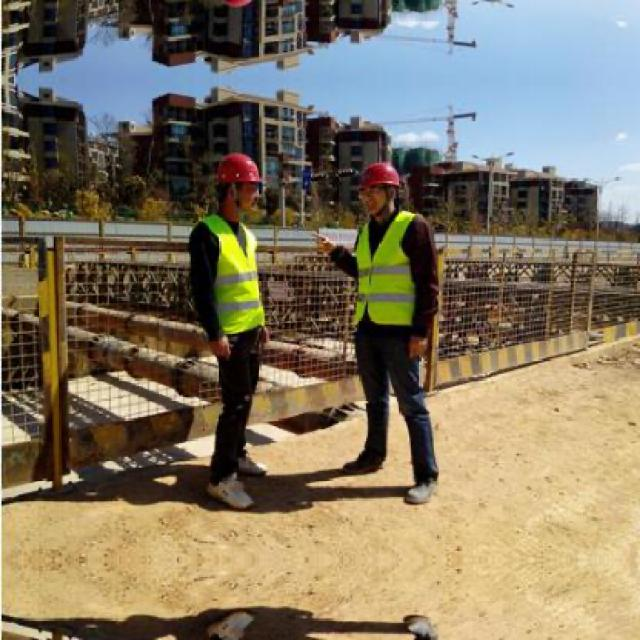helmet: (211, 143, 269, 220), (354, 156, 406, 218), (209, 0, 269, 15)
